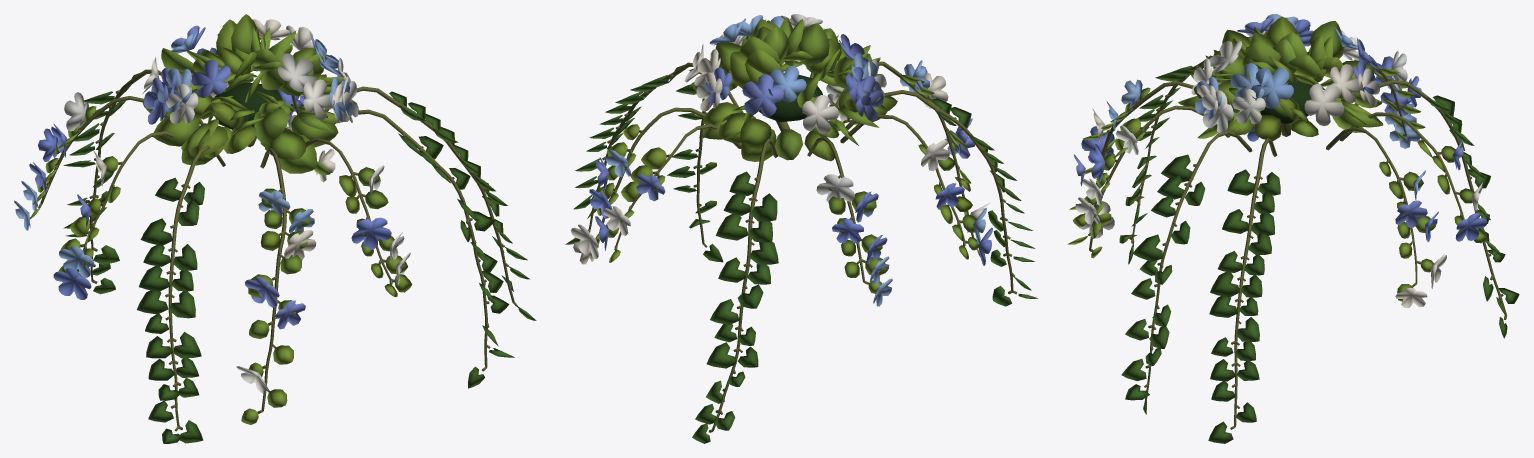
Rendered from basket_trailing_blue.glb.
The picture shows the model from 3 angles, left to right: view 1: azimuth 30°, elevation 25°; view 2: azimuth 150°, elevation 25°; view 3: azimuth 270°, elevation 25°; orthographic projection. The views are drawn at different scales.
Visible parts, largest first — view 1: Sammel Pflanze, Sammel Putz, Sammel Blatt; view 2: Sammel Pflanze, Sammel Putz, Sammel Blatt; view 3: Sammel Pflanze, Sammel Putz, Sammel Blatt.
Part boxes in pixels (x1=…): Sammel Pflanze: x1=14, y1=14, x2=536, y2=443; Sammel Putz: x1=38, y1=69, x2=517, y2=431; Sammel Blatt: x1=215, y1=82, x2=282, y2=129; Sammel Pflanze: x1=565, y1=14, x2=1037, y2=443; Sammel Putz: x1=588, y1=61, x2=1017, y2=432; Sammel Blatt: x1=759, y1=74, x2=822, y2=122; Sammel Pflanze: x1=1067, y1=14, x2=1519, y2=443; Sammel Putz: x1=1088, y1=55, x2=1507, y2=429; Sammel Blatt: x1=1260, y1=78, x2=1312, y2=123.
Size of the model in its own units: 0.7889 by 0.5698 by 0.73.
